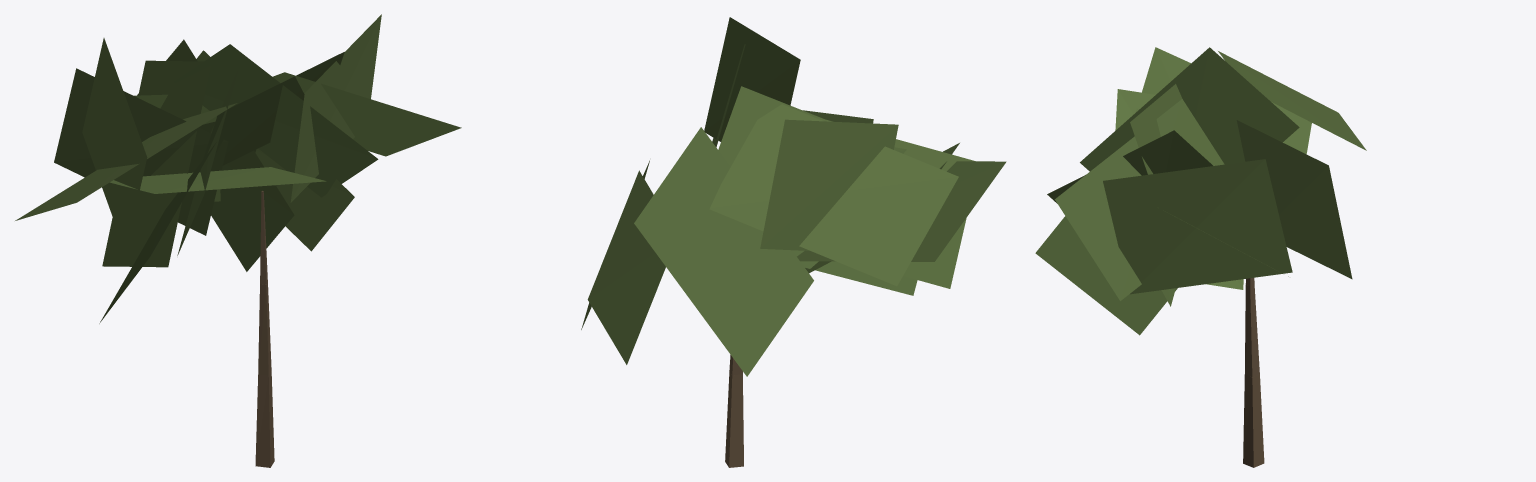
The model's file is giant_oak-far.glb.
3 views of the same model, side by side, from view 1: azimuth 30°, elevation 25°; view 2: azimuth 150°, elevation 25°; view 3: azimuth 270°, elevation 25° (orthographic). The views are drawn at different scales.
Visible parts, largest first — view 1: world-scenery/giant_oak-far; view 2: world-scenery/giant_oak-far; view 3: world-scenery/giant_oak-far.
Part boxes in pixels (x1=…): world-scenery/giant_oak-far: x1=15, y1=14, x2=461, y2=467; world-scenery/giant_oak-far: x1=581, y1=17, x2=1006, y2=467; world-scenery/giant_oak-far: x1=1035, y1=47, x2=1366, y2=467.
Bounding box in the file's own units: 7.46 × 7.53 × 7.9.
